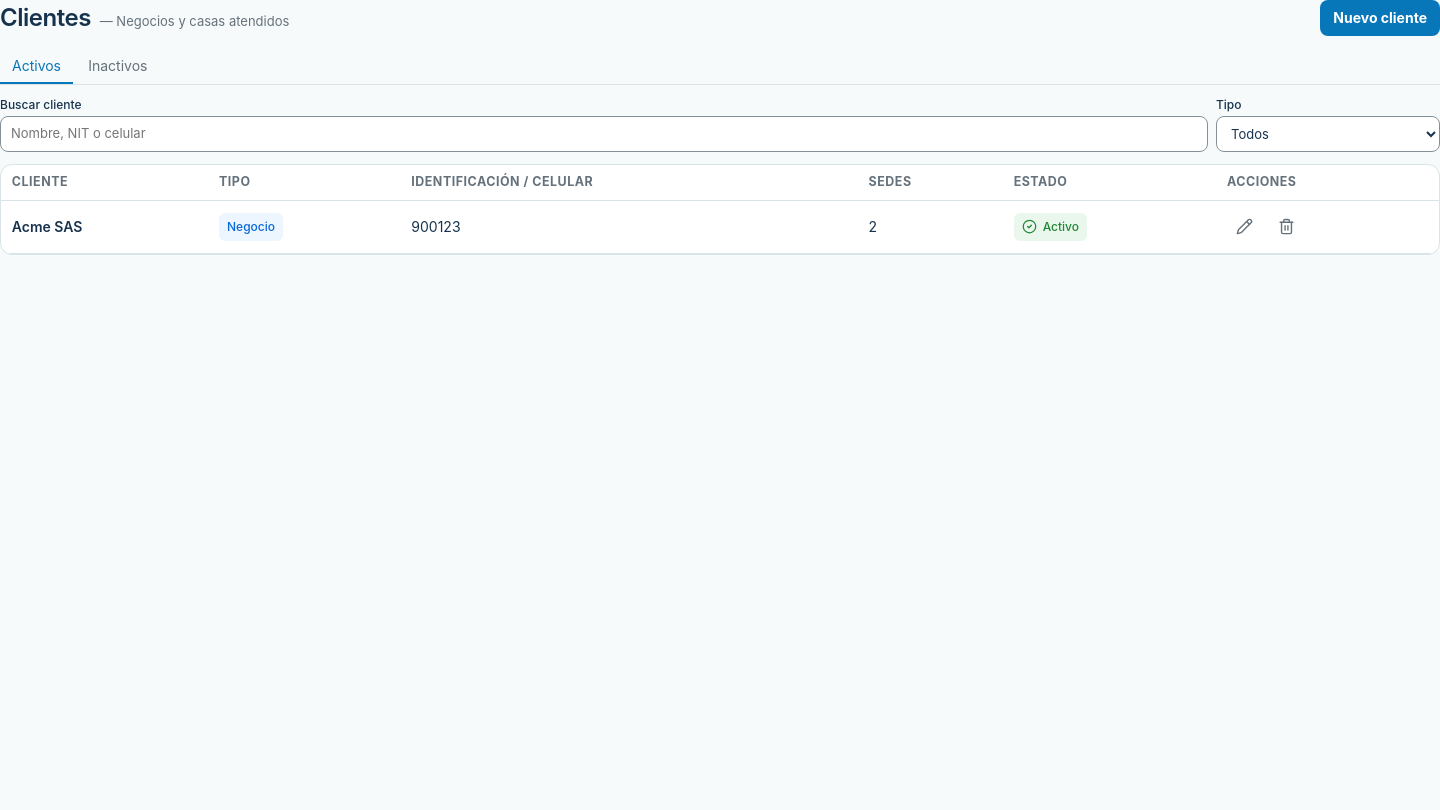
Scenario: Clientes listado › abre Editar con el registro listado, hace PATCH y actualiza sin GET ni refetch
Click the button named "Editar Acme SAS": (1245, 227) [1227,209,1263,245]
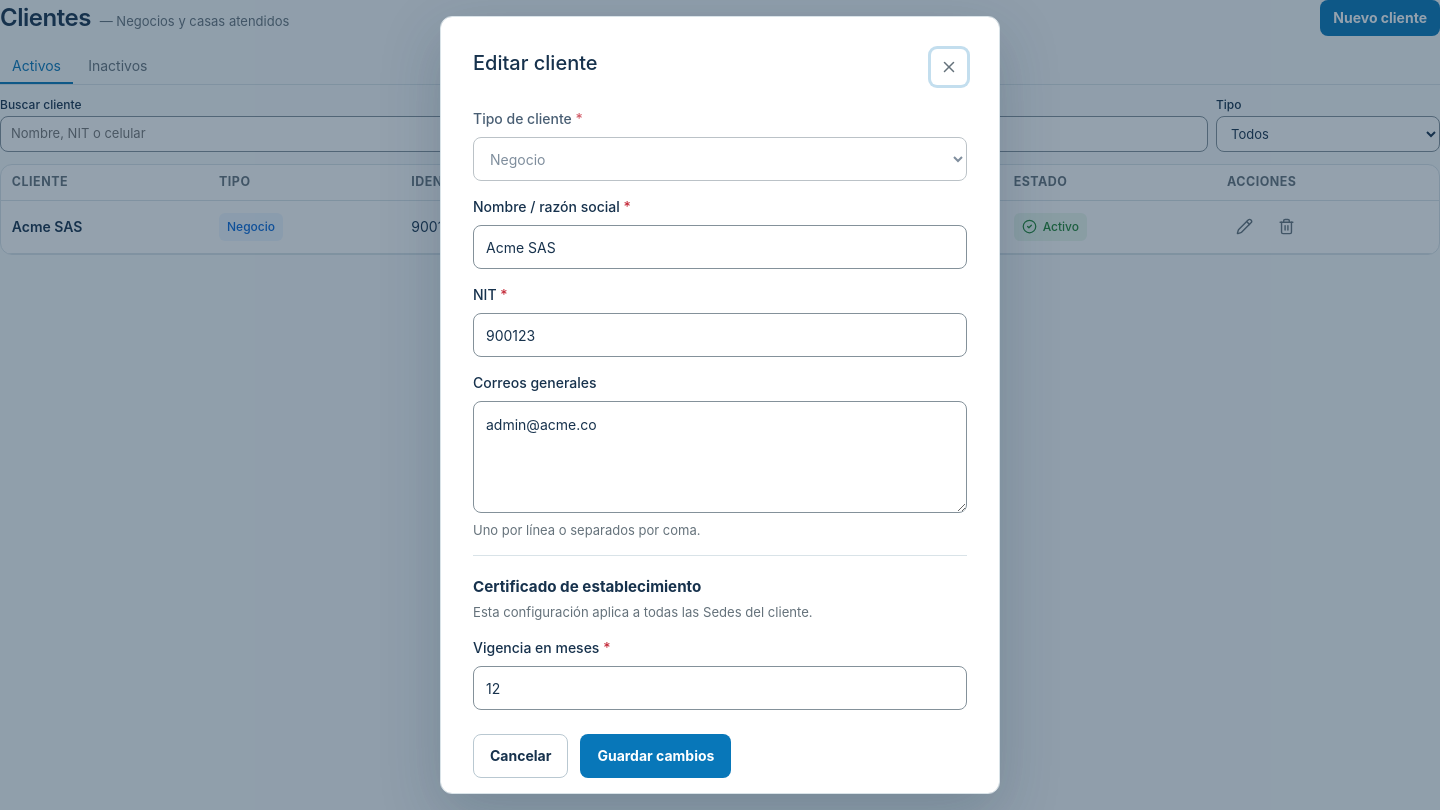
Result: the field with id "client-name" holds "Acme SAS"
Replace the text in the field with id "client-name" with "Acme Editado": (720, 247) [473,225,967,269]
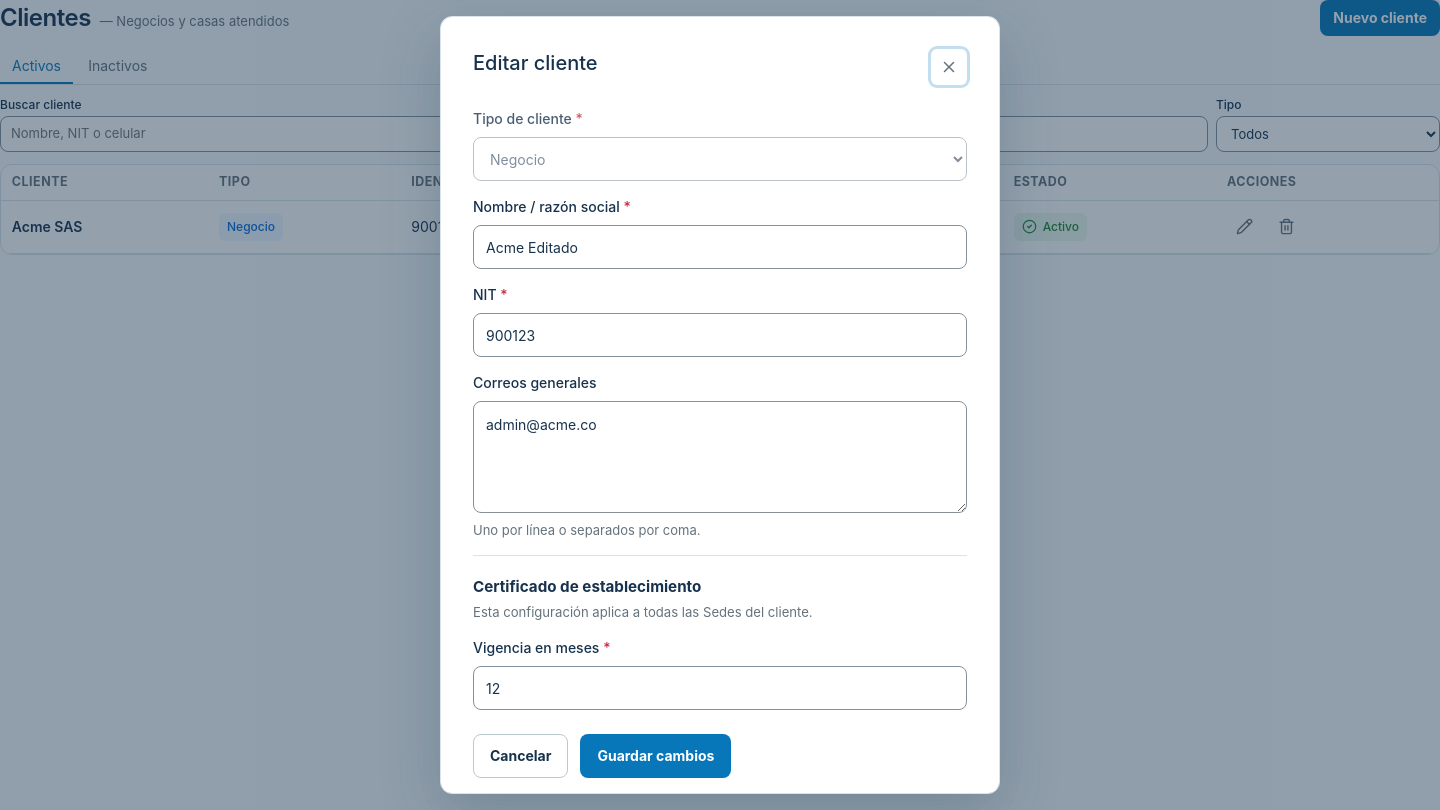
Submit the form with id "client-form", box [473,109,967,710]
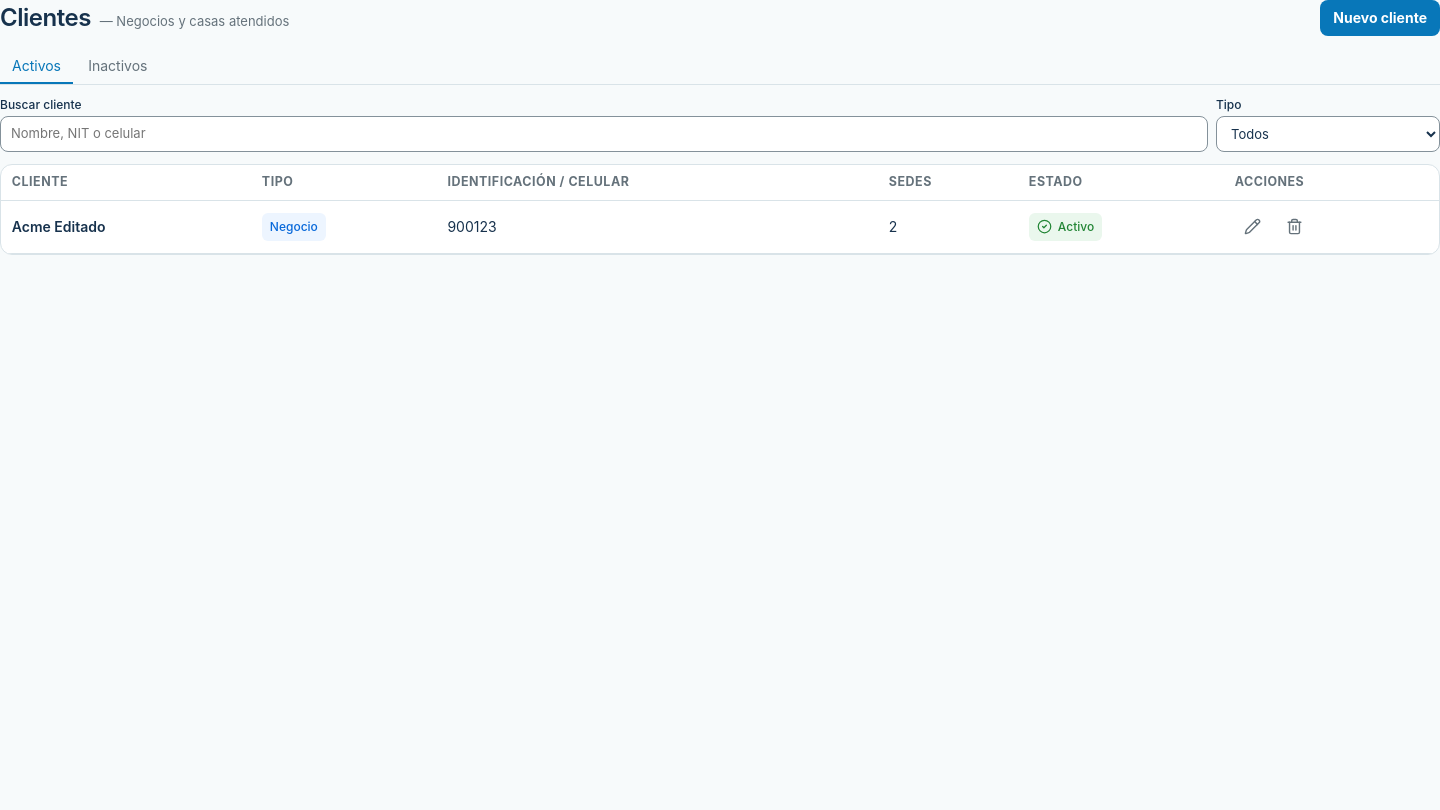
Result: the text "Acme Editado" is shown at [12,216,106,237]
